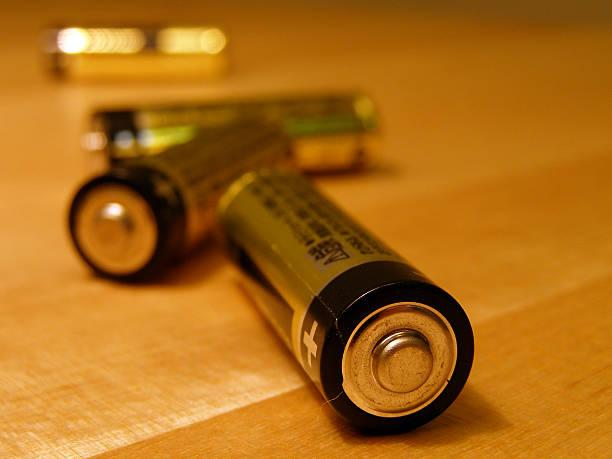battery: (212, 173, 481, 422)
